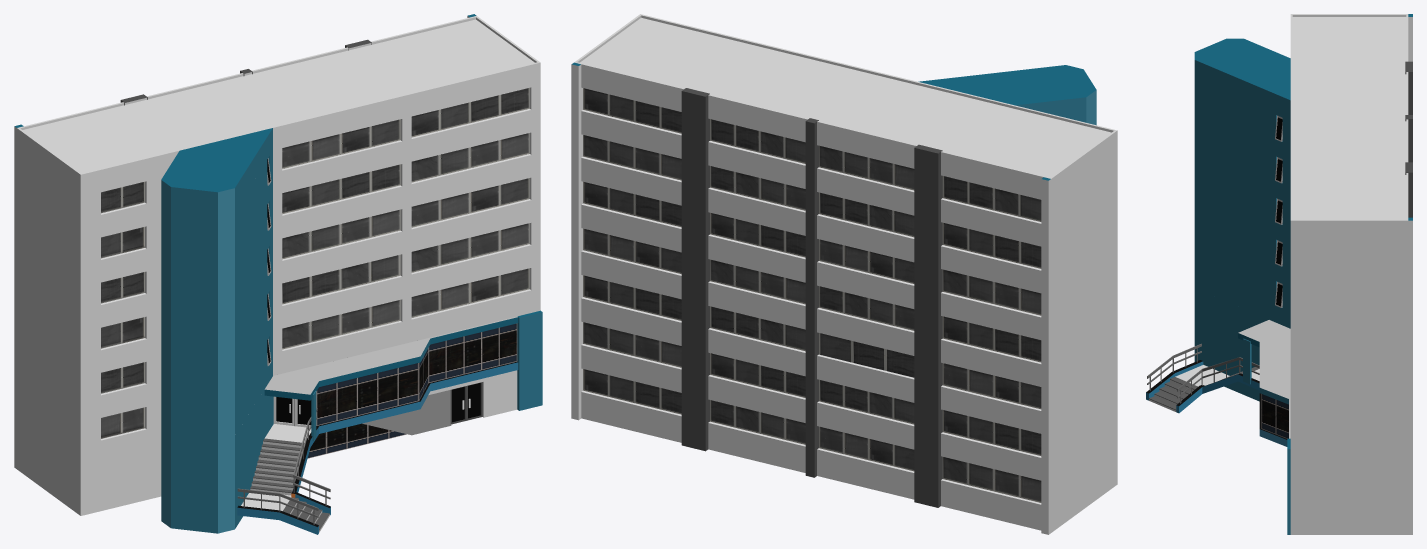
3 views of the same model, side by side, from view 1: azimuth 30°, elevation 25°; view 2: azimuth 150°, elevation 25°; view 3: azimuth 270°, elevation 25° (orthographic). The views are drawn at different scales.
Parts seen in each view (by area): view 1: BB-017; view 2: BB-017; view 3: BB-017.
Boxes of the visible parts, box(x1,y1,x2,y2) form: BB-017: box(14, 14, 542, 534); BB-017: box(571, 14, 1117, 534); BB-017: box(1146, 14, 1412, 534).
Size of what is drawn, in the model's own units: 32 by 22.72 by 17.47.
